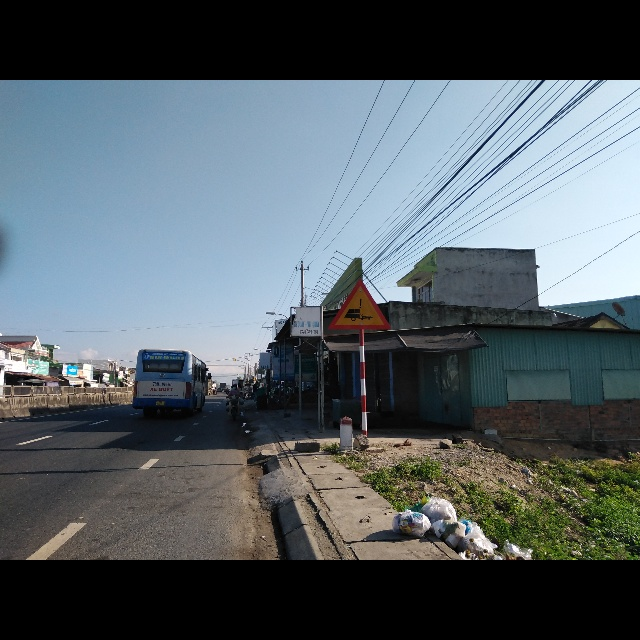Đoạn đường hay xảy ra tai nạn: (327, 276, 388, 331)
